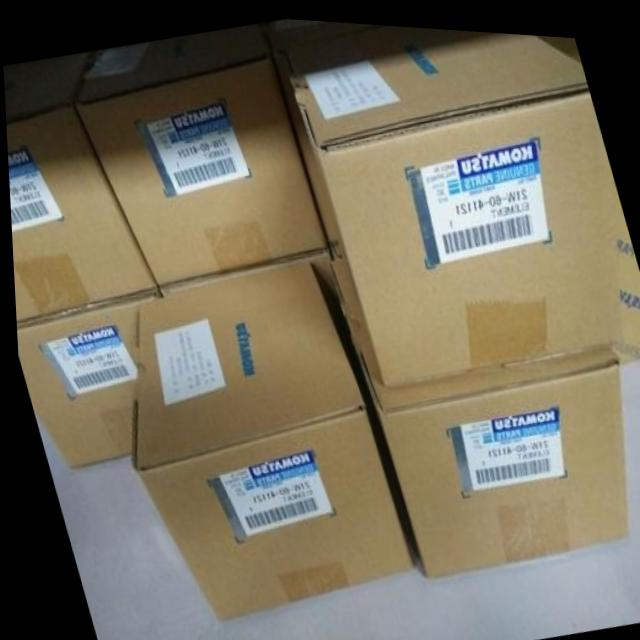box: (275, 21, 618, 382), (125, 256, 408, 618), (328, 256, 624, 572), (76, 26, 324, 283), (3, 51, 153, 321), (13, 284, 160, 466), (609, 179, 640, 355)
